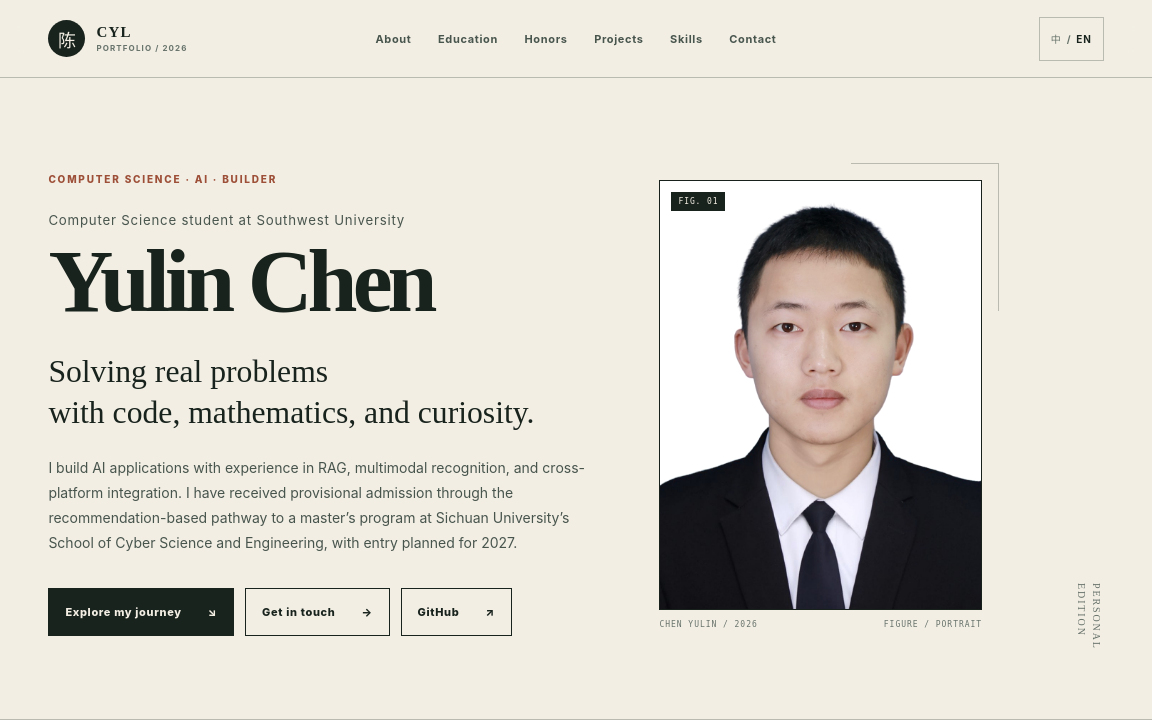
Test: portfolio locale behavior › switches the whole page to Chinese for the current session
Click the button with aria-label "切换至中文": [1071, 38] box [1039,16,1104,60]
(page scrolled)
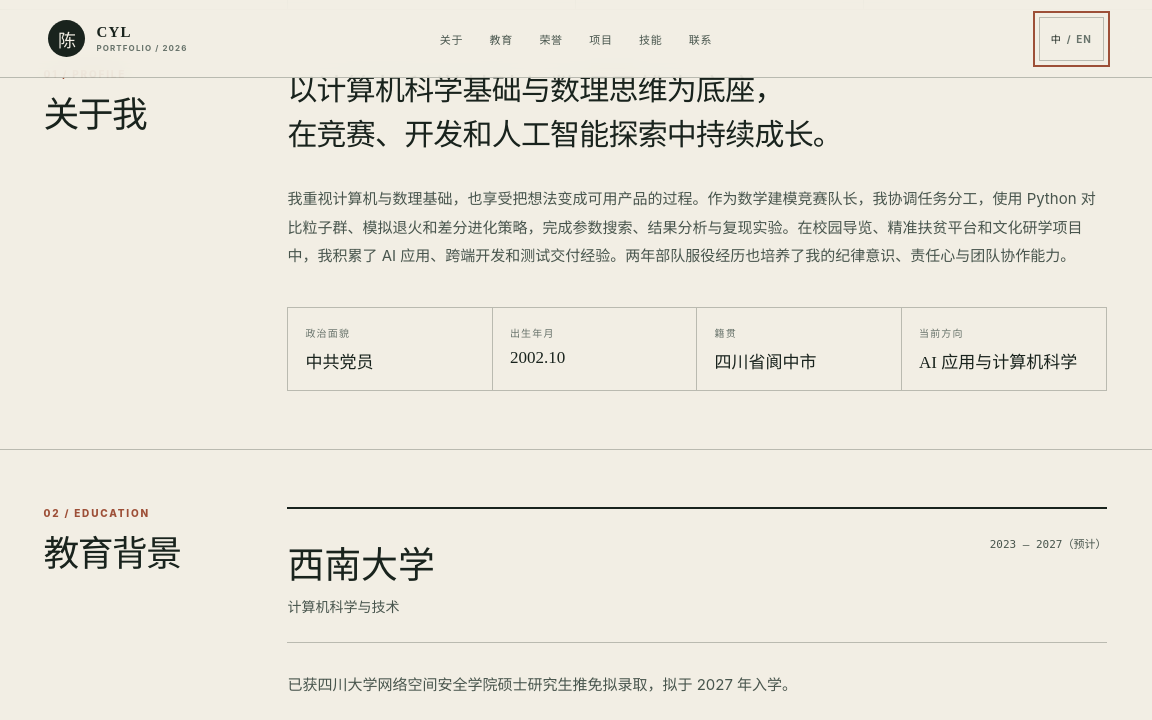
Result: the text "中共党员" is shown at [305,353,373,372]
